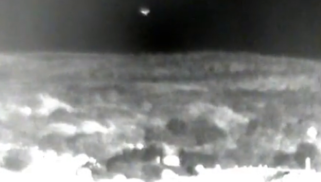Target: (142, 10, 150, 15)
